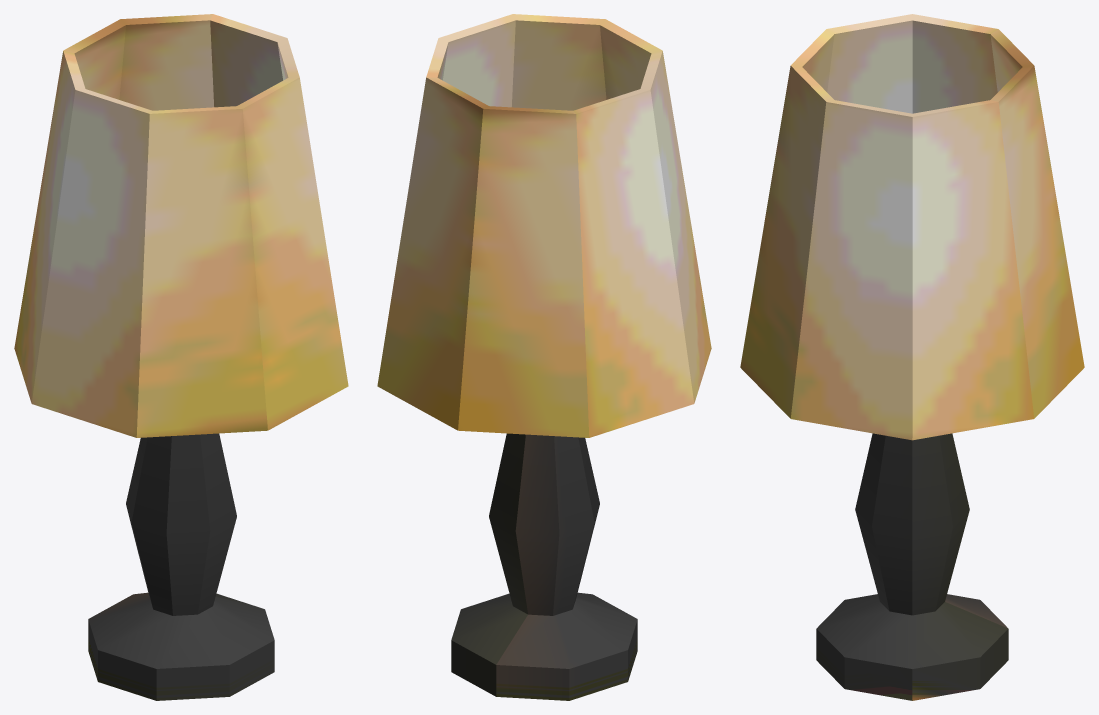
The model's file is Lamp.fbx.
3 renders of one model, left to right at view 1: azimuth 30°, elevation 25°; view 2: azimuth 150°, elevation 25°; view 3: azimuth 270°, elevation 25°, orthographic.
Parts seen in each view (by area): view 1: Lamp; view 2: Lamp; view 3: Lamp.
Boxes of the visible parts, x1,y1,x2,y2 form: Lamp: (14, 14, 348, 700); Lamp: (377, 14, 711, 700); Lamp: (740, 14, 1084, 700).
Bounding box in the file's own units: 71.3 × 136 × 71.3.
